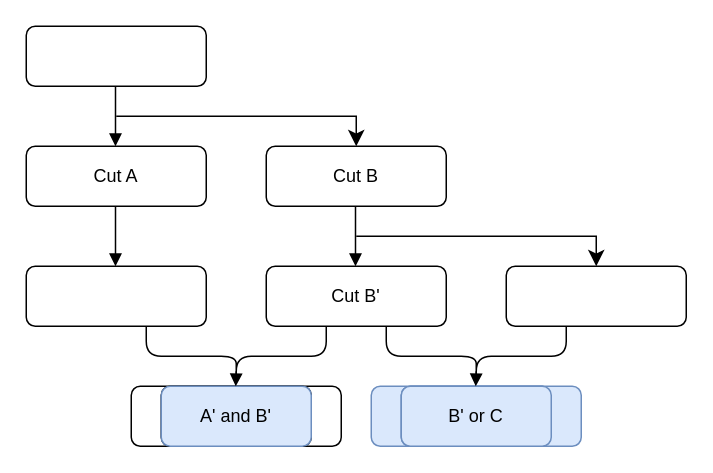
Some shapes in this 713 by 473 pixel diagram are drawn without their labels. Here are the shapes that lost their labels. From the top down, the box of each, then its label:
(25, 25, 206, 86): All entries
(25, 265, 206, 326): Cut A'
(505, 265, 686, 326): Cut C
